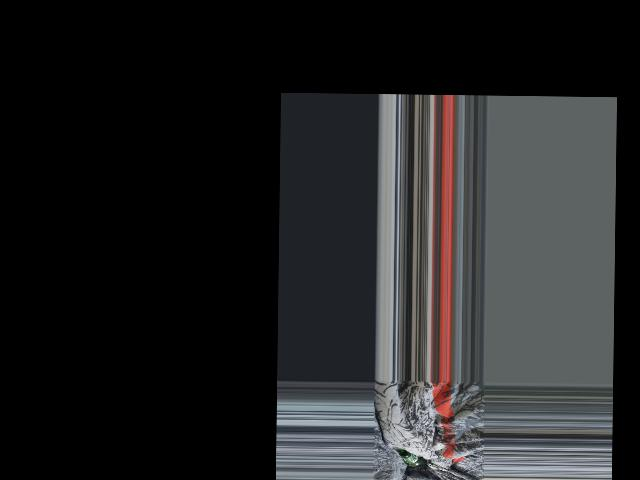beer: (398, 449, 428, 469)
